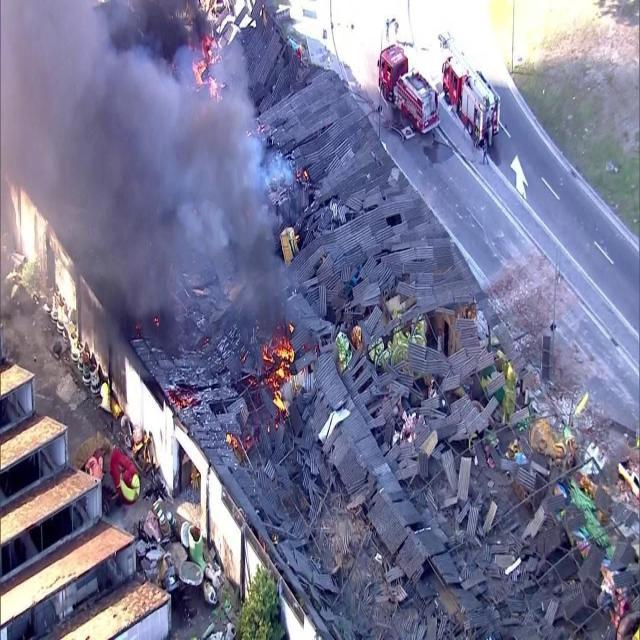Fire: (260, 332, 296, 415), (192, 31, 222, 102), (168, 390, 198, 412), (224, 428, 238, 448)
Smoke: (1, 2, 190, 312), (193, 101, 291, 324)
